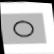no answer: (11, 16, 37, 40)
